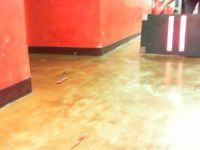switch: (178, 15, 187, 52), (166, 16, 175, 52)
